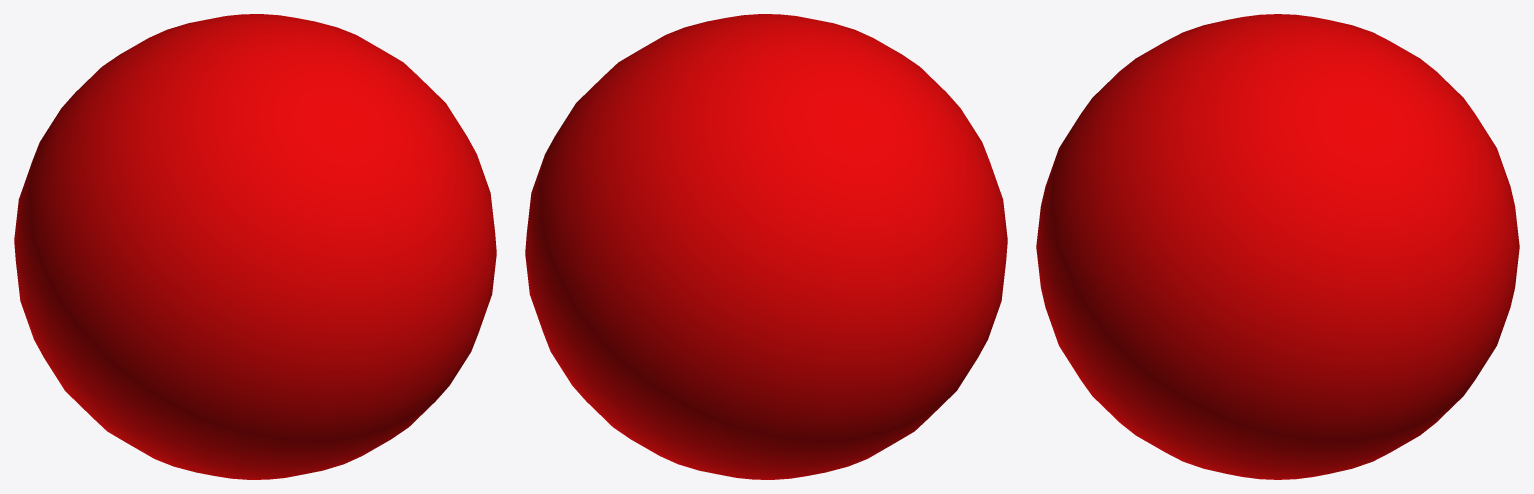
Rendered from ball.fbx.
3 views of the same model, side by side, from view 1: azimuth 30°, elevation 25°; view 2: azimuth 150°, elevation 25°; view 3: azimuth 270°, elevation 25° (orthographic).
Parts seen in each view (by area): view 1: Sphere; view 2: Sphere; view 3: Sphere.
Part boxes in pixels (bbox=[...]): Sphere: bbox=[14, 14, 496, 479]; Sphere: bbox=[525, 14, 1007, 479]; Sphere: bbox=[1036, 14, 1519, 479].
Bounding box in the file's own units: 200 × 192 × 200.
